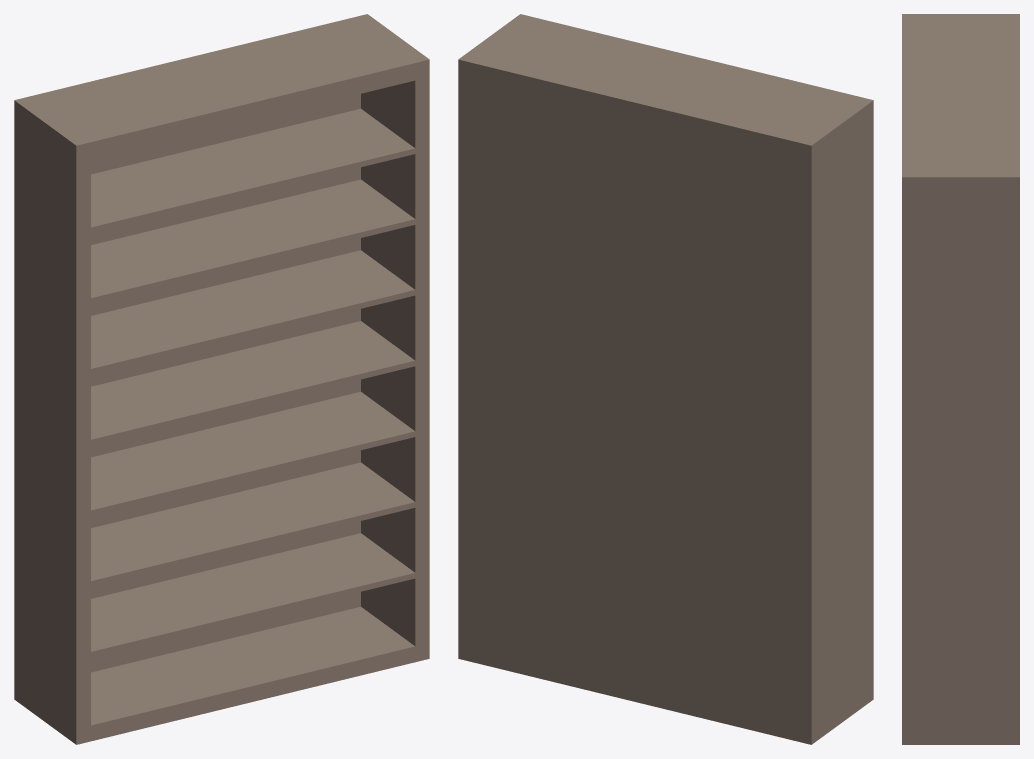
The model's file is Book Shelf.fbx.
The picture shows the model from 3 angles, left to right: view 1: azimuth 30°, elevation 25°; view 2: azimuth 150°, elevation 25°; view 3: azimuth 270°, elevation 25°; orthographic projection. The views are drawn at different scales.
Parts seen in each view (by area): view 1: bookShelf; view 2: bookShelf; view 3: bookShelf.
Part boxes in pixels (bbox=[...]): bookShelf: bbox=[14, 14, 429, 744]; bookShelf: bbox=[458, 14, 873, 744]; bookShelf: bbox=[902, 14, 1019, 744].
Size of the model in its own units: 6.53 by 10.59 by 1.99.
